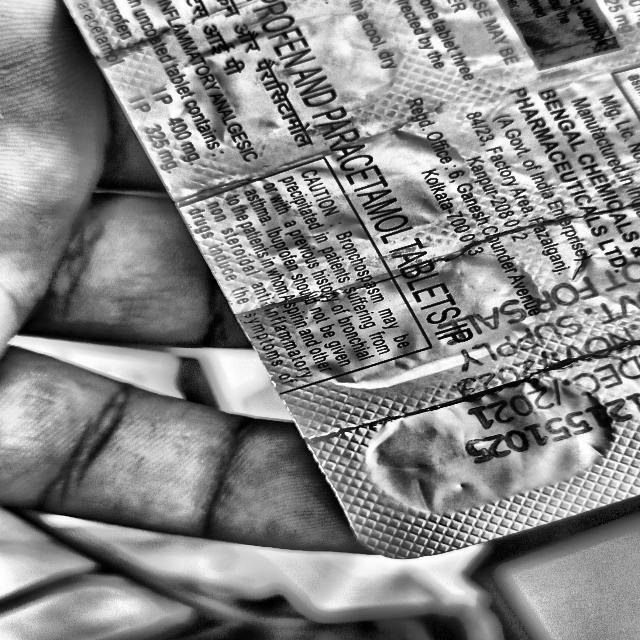IBUPROFEN AND PARACETAMOL TABLETS: (231, 0, 513, 382)
